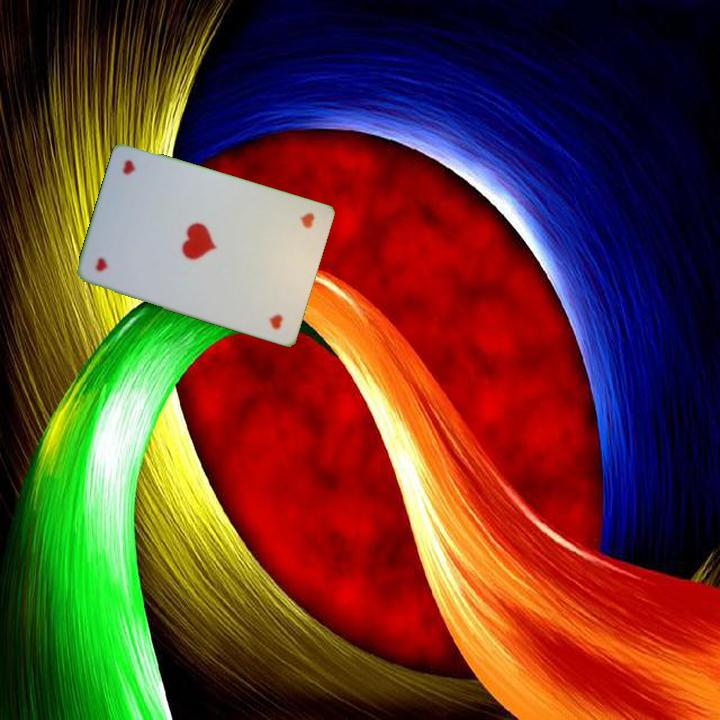h_a.png: (85, 211, 159, 291), (250, 197, 323, 277)
